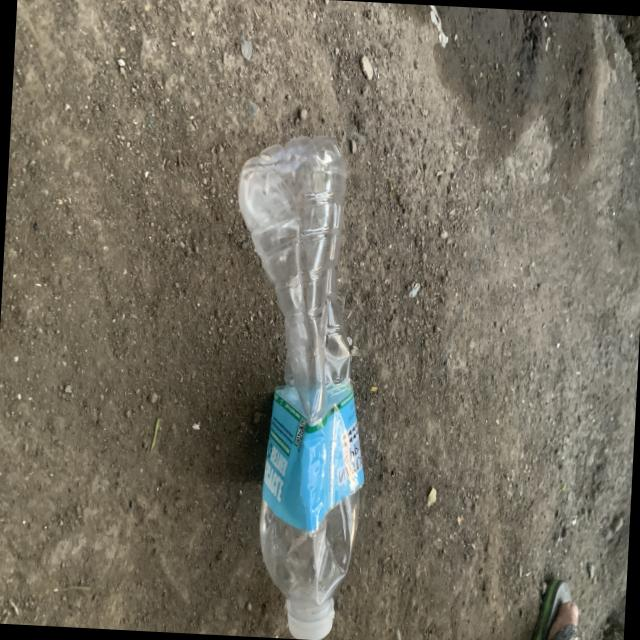Bottle: (237, 137, 363, 640)
